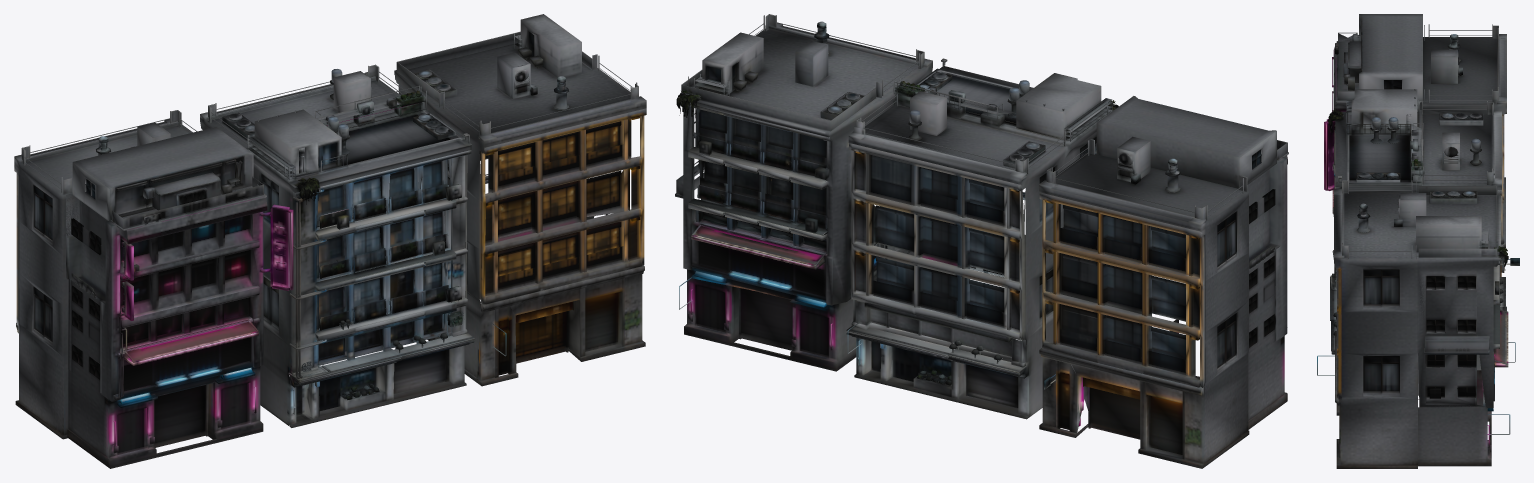
File: neon-lit buildings 3d model.glb
The picture shows the model from 3 angles, left to right: view 1: azimuth 30°, elevation 25°; view 2: azimuth 150°, elevation 25°; view 3: azimuth 270°, elevation 25°; orthographic projection. The views are drawn at different scales.
Parts seen in each view (by area): view 1: 22c10902-a191-4307-aefe-585e49ed70cc; view 2: 22c10902-a191-4307-aefe-585e49ed70cc; view 3: 22c10902-a191-4307-aefe-585e49ed70cc.
Part boxes in pixels (x1,y1,x2,y2): 22c10902-a191-4307-aefe-585e49ed70cc: (14,14,646,468); 22c10902-a191-4307-aefe-585e49ed70cc: (675,14,1288,468); 22c10902-a191-4307-aefe-585e49ed70cc: (1317,14,1519,468).
Bounding box in the file's own units: 0.9995 × 0.4917 × 0.3804.
1 material, 1 textured.
